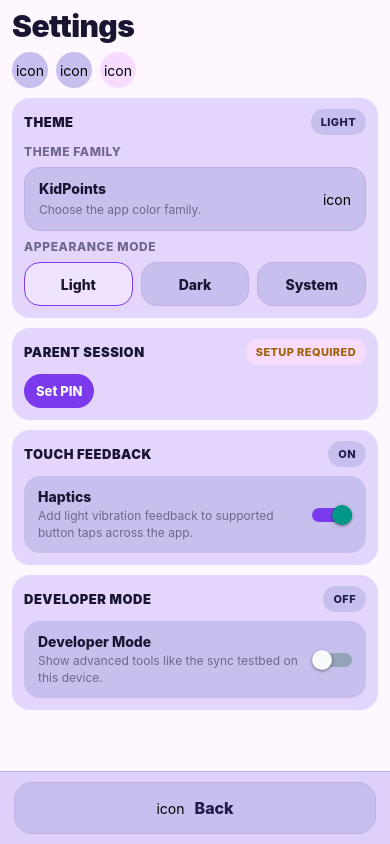
SettingsScreen › shows the active theme family and lets you switch to gruvbox
Expected: the text "KidPoints" is shown, [39,180,106,197]
Expected: the text "Retro warm neutrals with classic Gruvbox contrast." is not shown
Click the button with aria-label "Open theme family picker": coordinates (195, 199) [24,167,366,231]
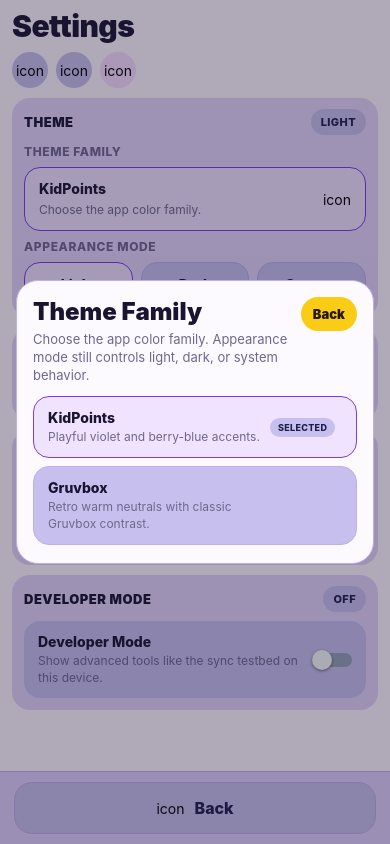
Now the text "Retro warm neutrals with classic Gruvbox contrast." is shown, box [48,498,260,532]
Click the text "Gruvbox": coordinates (78, 488) [48,479,108,496]
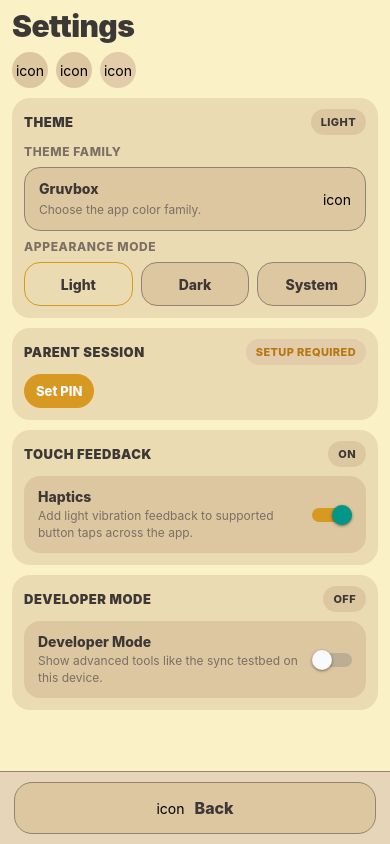
Now the text "Gruvbox" is shown, box [39,180,99,197]
Now the button "Retro warm neutrals with classic Gruvbox contrast." is gone
